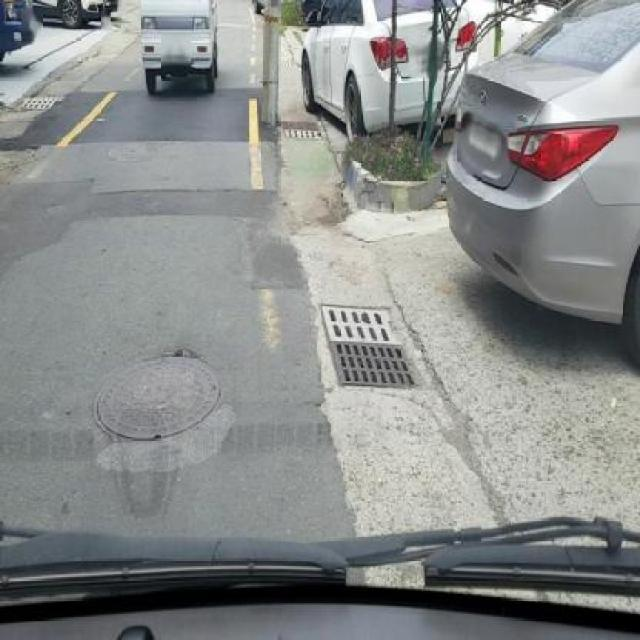Manhole: (90, 346, 227, 446), (328, 342, 420, 389), (318, 306, 396, 342), (104, 139, 157, 164), (282, 116, 327, 141), (13, 94, 64, 114), (279, 56, 295, 70)
Pothole: (172, 348, 184, 358)
